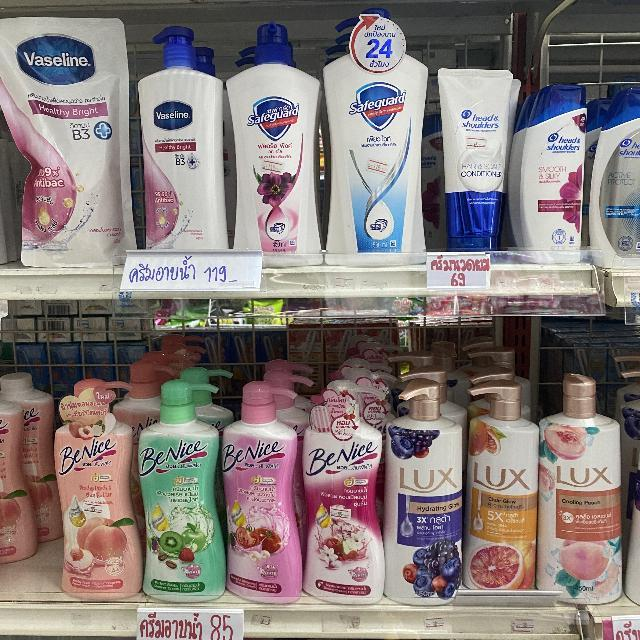Squeeze Tube: (429, 49, 523, 275)
